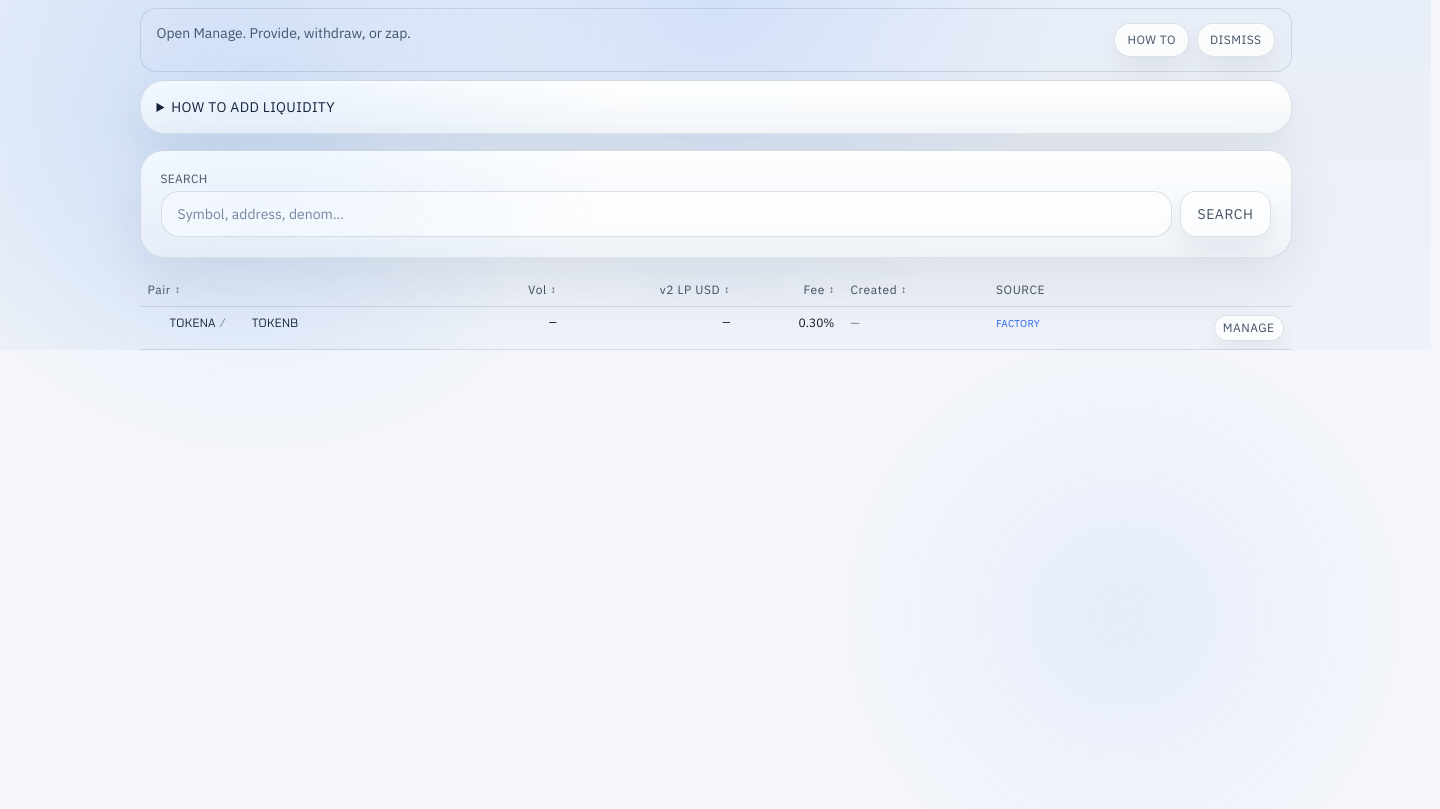
PoolPage › shows retail LP how-to and still renders Provide / IL when opened (GitLab #531)
Expected: the element with test id "pool-lp-howto" is shown, [140,8,1292,134]
Expected: the element with test id "pool-lp-howto-details" is shown, [140,80,1292,134]
Click the button with test id "pool-row-manage": (1249, 328) [1214,315,1284,341]
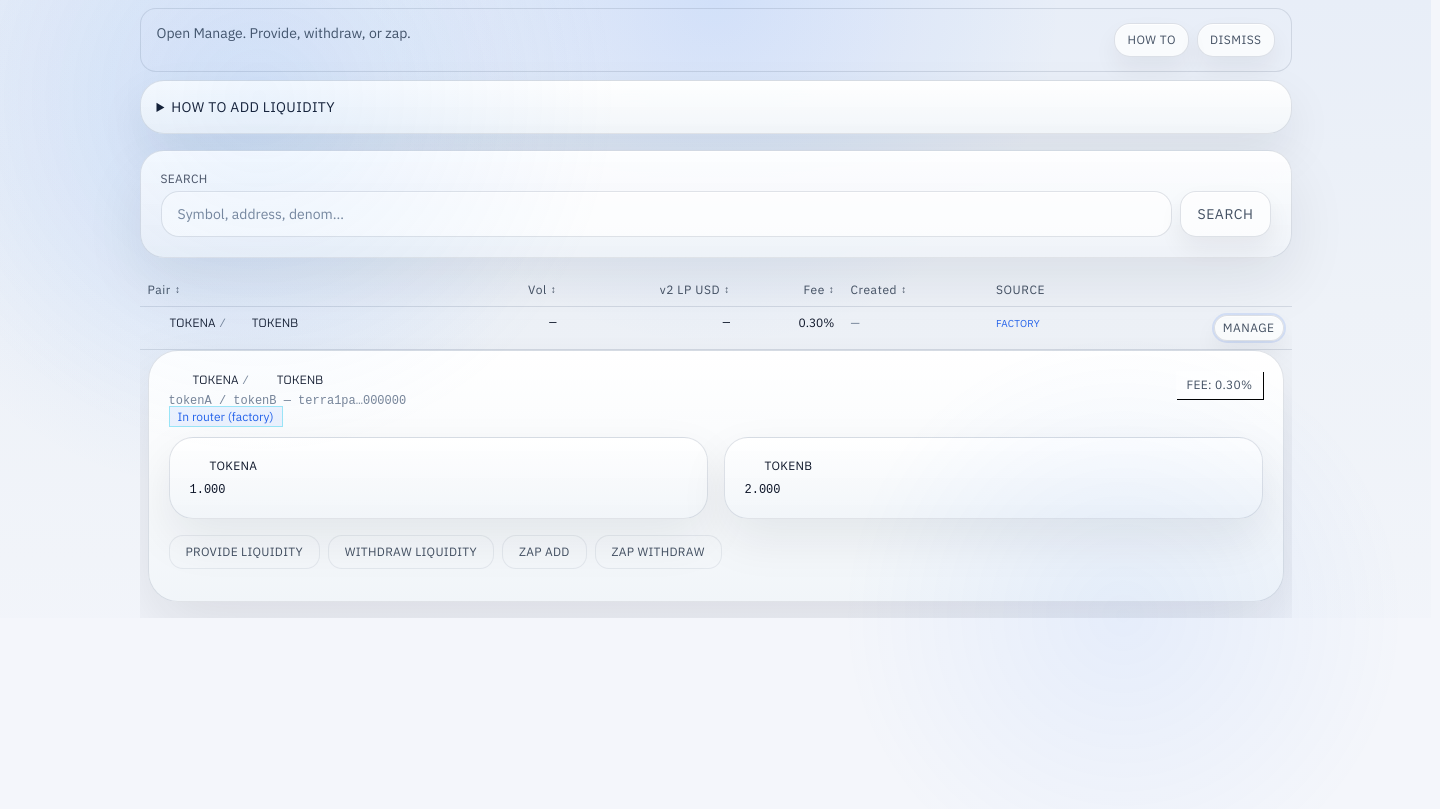
Expected: the element with test id "pool-manage-actions" is shown, [168,535,722,569]
Click the button with test id "pool-manage-tab-provide": (244, 552) [168,535,320,569]
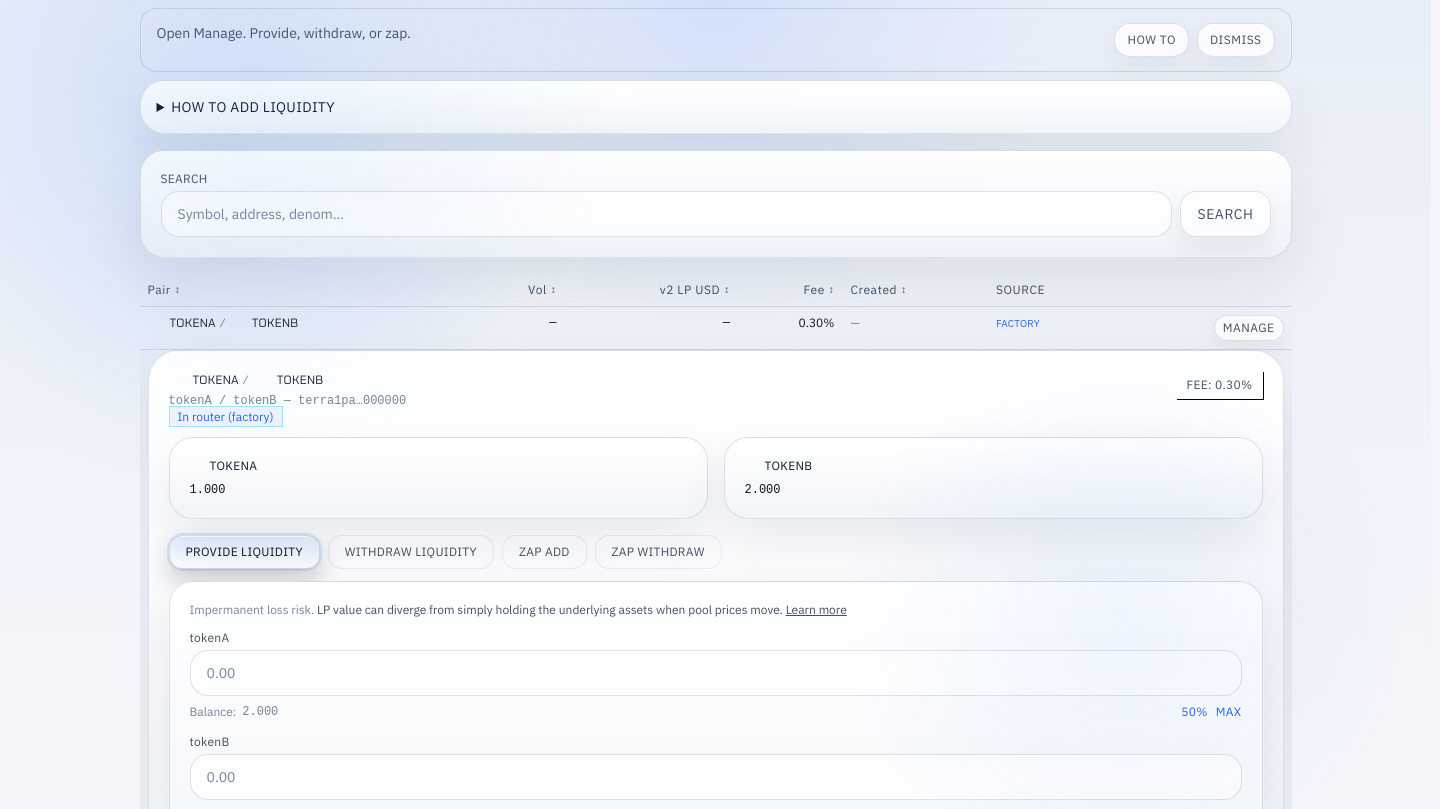
Expected: the element with test id "pool-il-risk-notice-advanced" is shown, [190,602,847,617]
